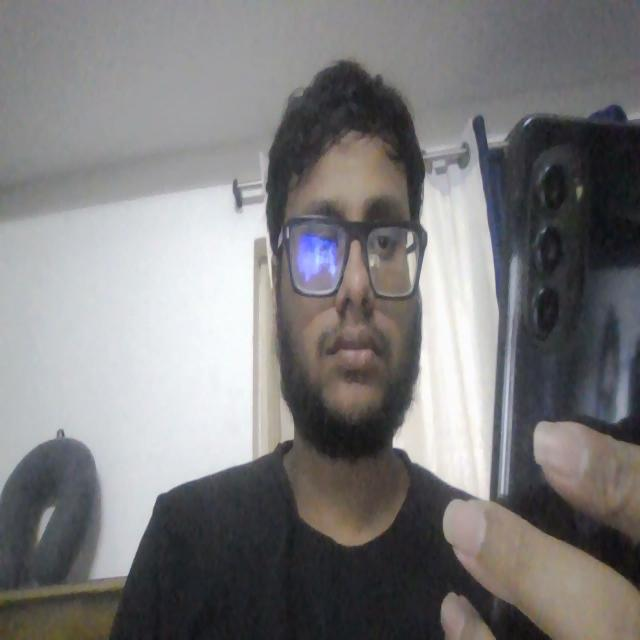phone: (487, 113, 640, 496)
